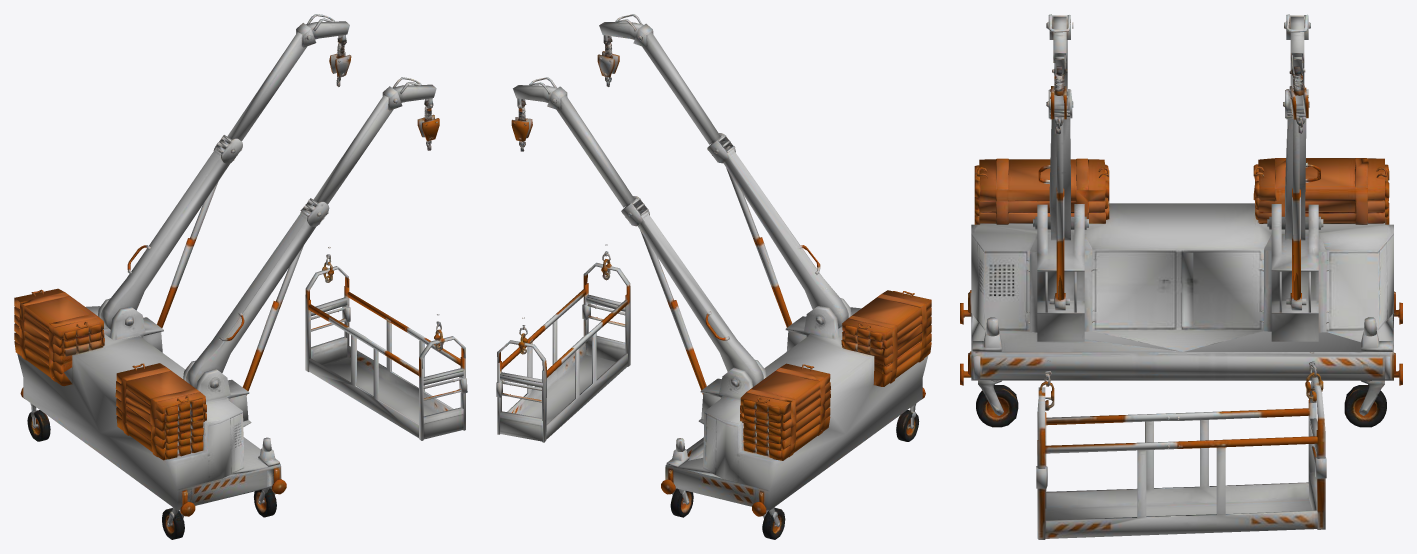
File: gondolaRig.glb
3 views of the same model, side by side, from view 1: azimuth 30°, elevation 25°; view 2: azimuth 150°, elevation 25°; view 3: azimuth 270°, elevation 25° (orthographic). The views are drawn at different scales.
Visible parts, largest first — view 1: tripo_node_54aab7f9-cd07-46f9-9851-6cb92a3fbee8; view 2: tripo_node_54aab7f9-cd07-46f9-9851-6cb92a3fbee8; view 3: tripo_node_54aab7f9-cd07-46f9-9851-6cb92a3fbee8.
Part boxes in pixels (x1,y1,x2,y2): tripo_node_54aab7f9-cd07-46f9-9851-6cb92a3fbee8: (14,14,467,539); tripo_node_54aab7f9-cd07-46f9-9851-6cb92a3fbee8: (496,14,931,539); tripo_node_54aab7f9-cd07-46f9-9851-6cb92a3fbee8: (960,14,1402,539).
Size of the model in its own units: 0.9044 by 0.998 by 0.7716.
1 material, 1 textured.
